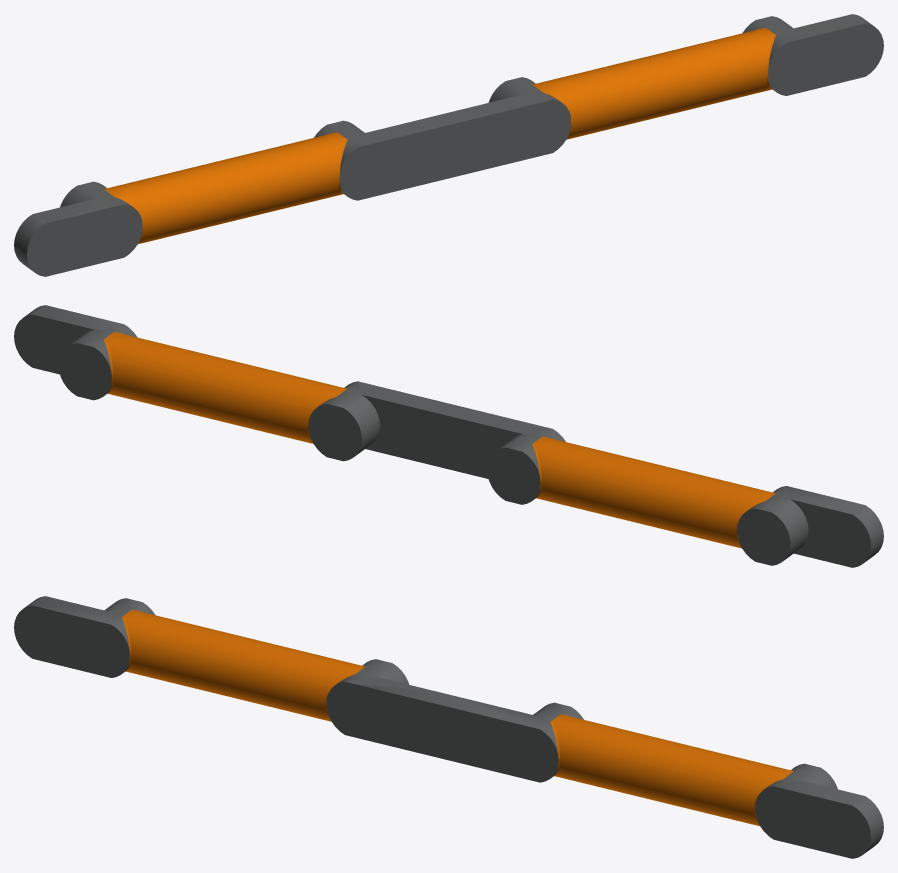
The picture shows the model from 3 angles, top to bottom: view 1: azimuth 30°, elevation 25°; view 2: azimuth 150°, elevation 25°; view 3: azimuth 330°, elevation 25°; orthographic projection.
Visible parts, largest first — view 1: l3_LOD0, l3_col; view 2: l3_LOD0, l3_col; view 3: l3_LOD0, l3_col.
Part boxes in pixels (x1=…): l3_LOD0: x1=14, y1=14, x2=883, y2=276; l3_col: x1=27, y1=15, x2=883, y2=276; l3_LOD0: x1=14, y1=305, x2=883, y2=567; l3_col: x1=14, y1=315, x2=870, y2=567; l3_LOD0: x1=14, y1=596, x2=883, y2=858; l3_col: x1=14, y1=596, x2=870, y2=857.
Size of what is drawn, in the model's own units: 192 by 11.93 by 12.
